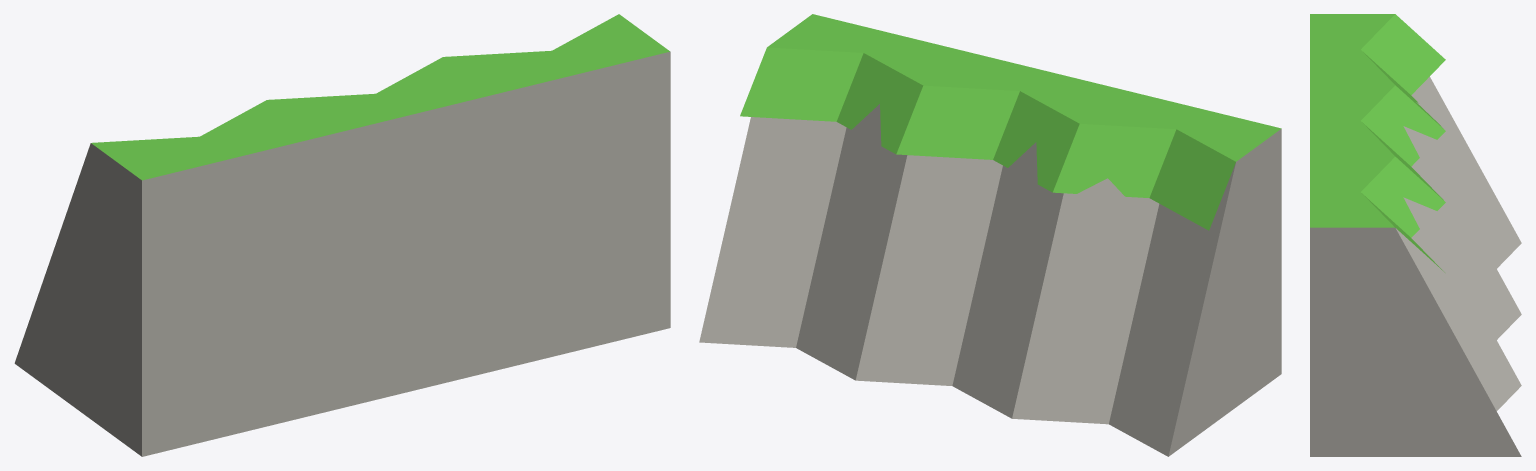
The model's file is cliff_half_stone.glb.
3 renders of one model, left to right at view 1: azimuth 30°, elevation 25°; view 2: azimuth 150°, elevation 25°; view 3: azimuth 270°, elevation 25°, orthographic. The views are drawn at different scales.
Visible parts, largest first — view 1: cliff_half_stone; view 2: cliff_half_stone; view 3: cliff_half_stone.
Part boxes in pixels (x1=…): cliff_half_stone: x1=14, y1=14, x2=670, y2=456; cliff_half_stone: x1=699, y1=14, x2=1281, y2=456; cliff_half_stone: x1=1310, y1=14, x2=1521, y2=456.
Bounding box in the file's own units: 1 × 0.5 × 0.4185.
